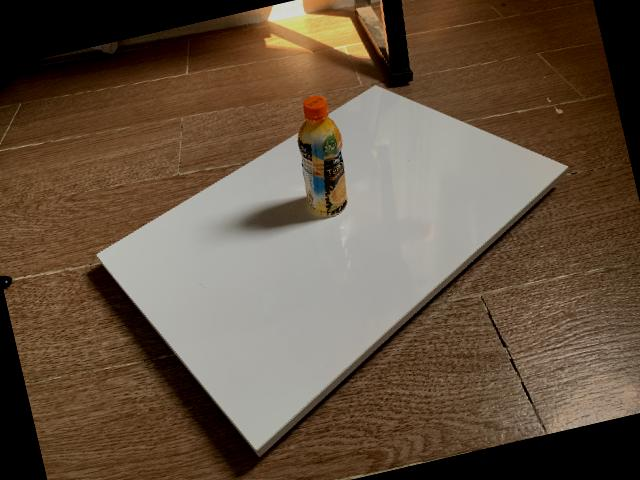teppy_orange_juice: (297, 95, 347, 216)
